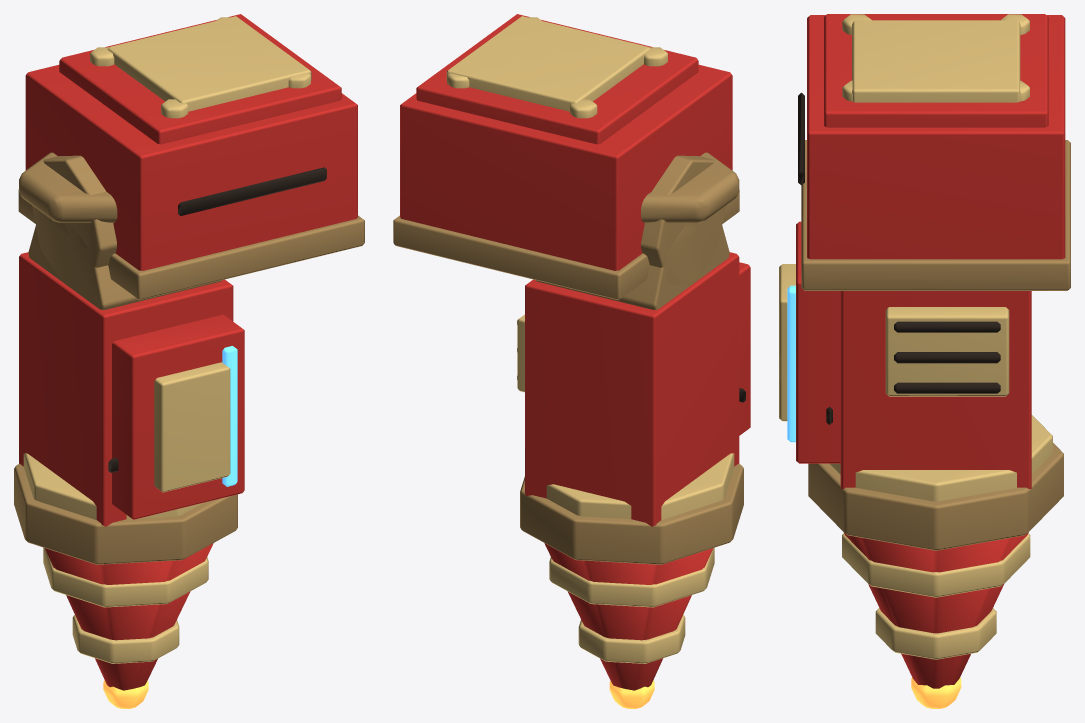
The model's file is boldheart_arm_sunder.glb.
3 views of the same model, side by side, from view 1: azimuth 30°, elevation 25°; view 2: azimuth 150°, elevation 25°; view 3: azimuth 270°, elevation 25° (orthographic). The views are drawn at different scales.
Visible parts, largest first — view 1: boldheart_arm_sunder; view 2: boldheart_arm_sunder; view 3: boldheart_arm_sunder.
Part boxes in pixels (x1,y1,x2,y2): boldheart_arm_sunder: (14,14,364,708); boldheart_arm_sunder: (393,14,750,708); boldheart_arm_sunder: (779,14,1070,708).
Bounding box in the file's own units: 0.6377 × 1.37 × 0.52.
1 material, 1 textured.
